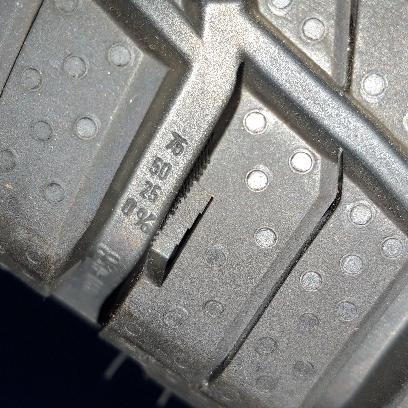temoin:100: (138, 151, 223, 294)
